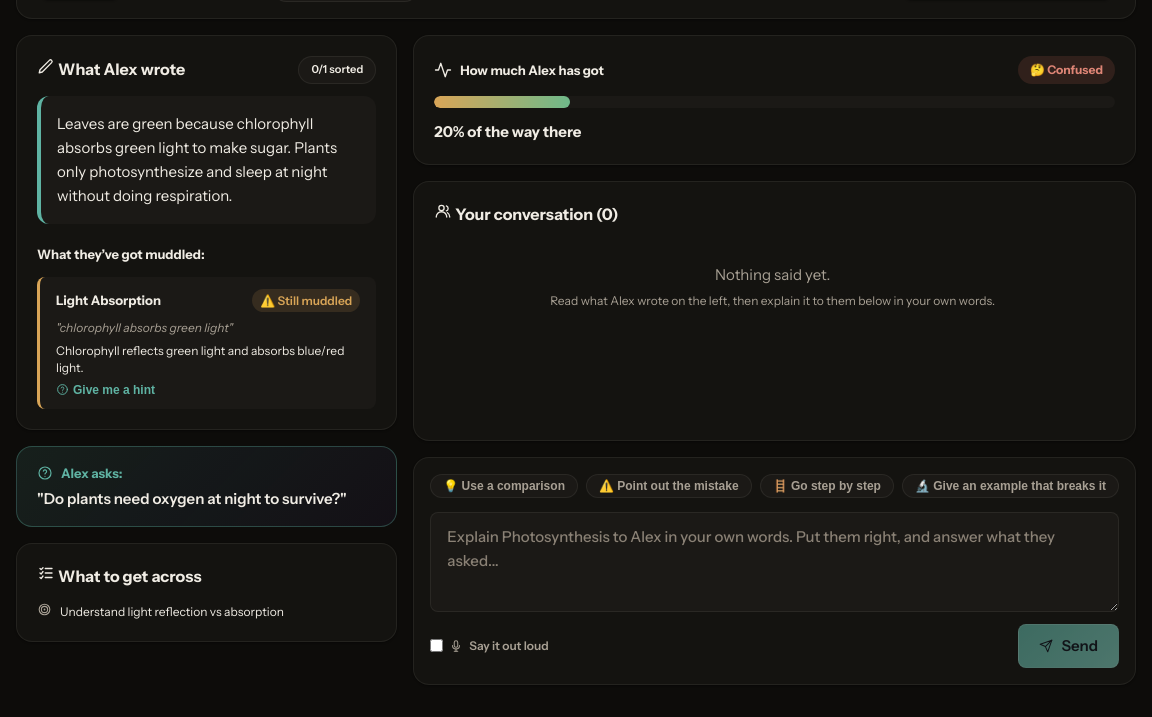
Test: FeynmanStudioView Component › evaluates student explanation, updates dialogue, and increases score
(page scrolled)
Type "Chlorophyll actually reflects green light and absorbs red and blue light to power photosynthesis." into the text box with test id "teaching-textarea" at {"x": 775, "y": 562}, box [430,512,1119,612]
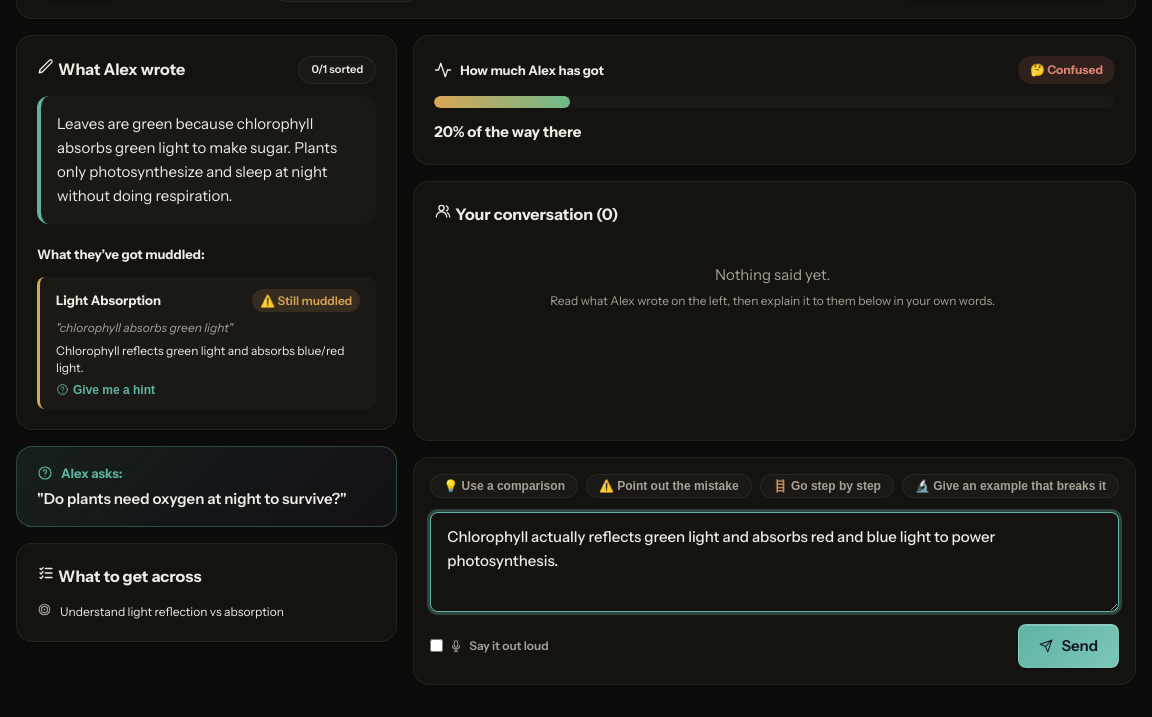
Click the button with test id "submit-explanation-btn" at {"x": 1069, "y": 646}, box [1018,624,1119,668]
(page scrolled)
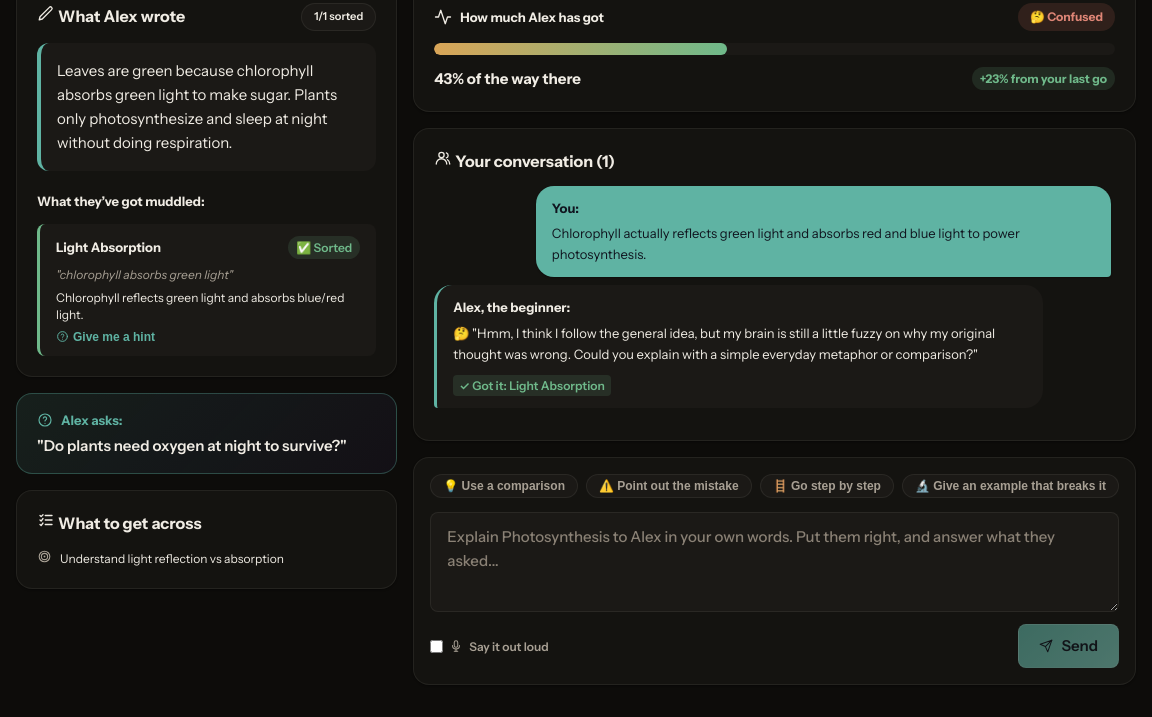
Now the element with test id "user-turn-bubble" shows "Chlorophyll actually reflects green light", box [552,225,1020,262]
Now the element with test id "apprentice-turn-bubble" is shown, box [434,284,1043,408]
